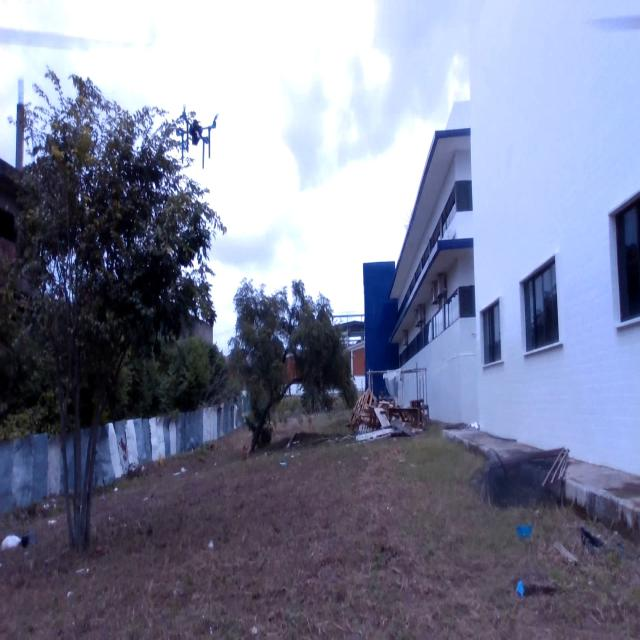-uav-: (165, 100, 233, 180)
